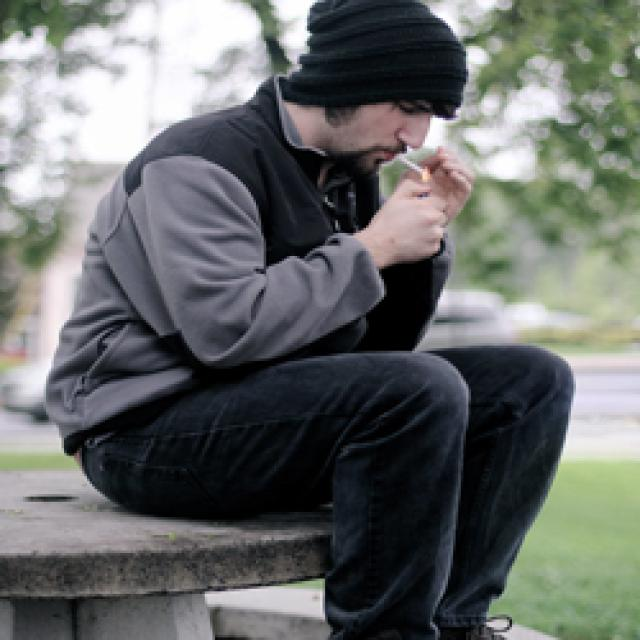Smooking: (397, 141, 440, 181)
